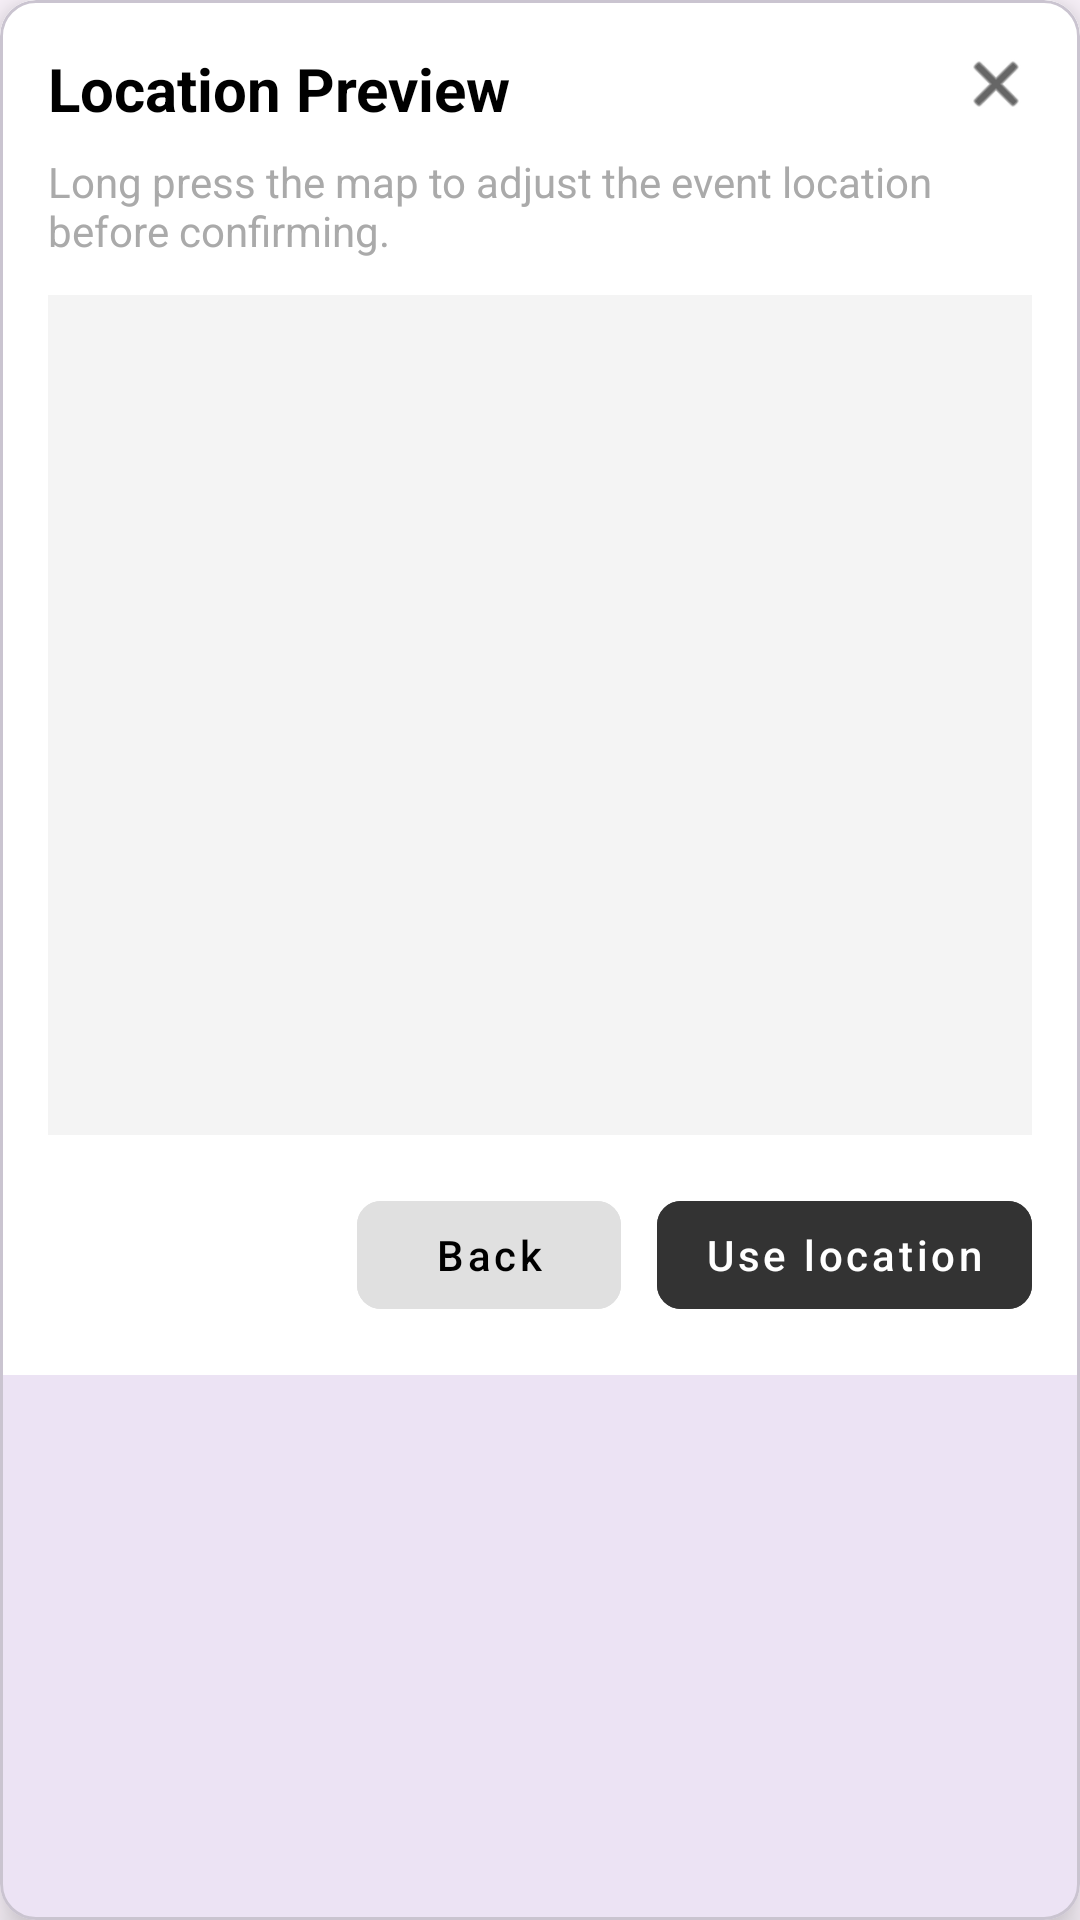

Icon bounding boxes for this 1080 × 1920 phone screenshot, format (x1, y1, x2, y2):
close clear cancel: (973, 61, 1019, 107)
